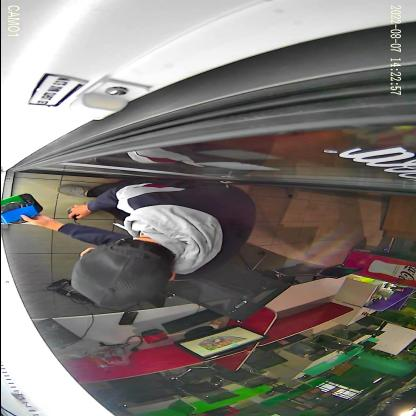blue: (0, 201, 38, 224)
green: (0, 193, 43, 225)
